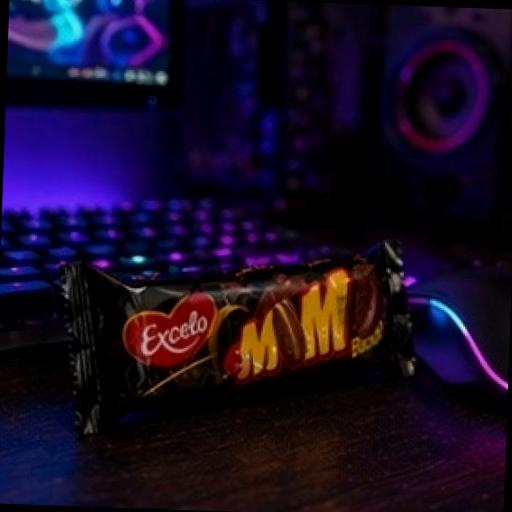MOMO: (22, 188, 450, 479)
